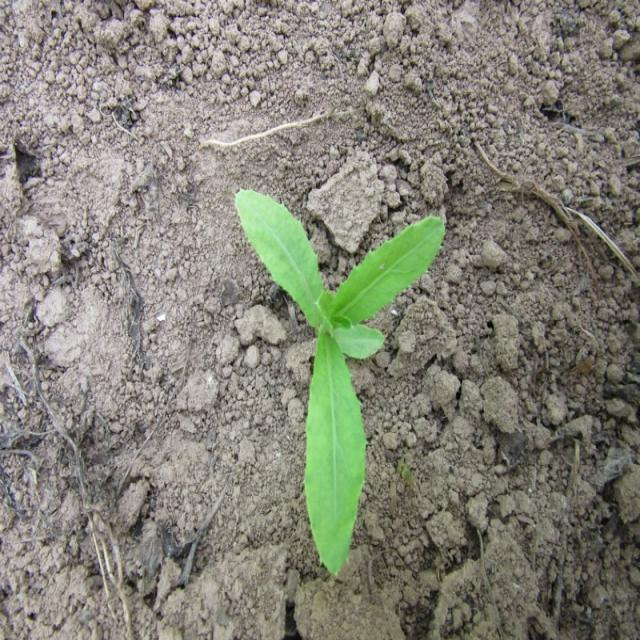field_thistle: (225, 172, 442, 562)
